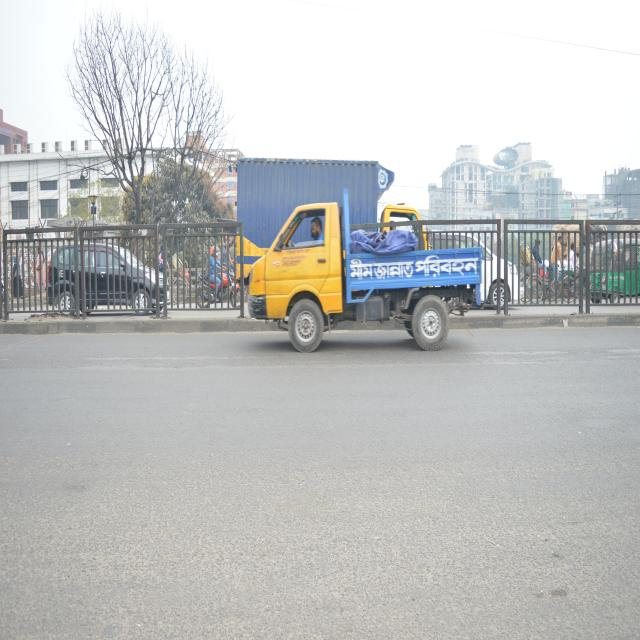microbus: (38, 237, 175, 323)
motorbike: (188, 269, 244, 316)
pickup-van: (235, 199, 488, 358), (228, 144, 437, 310)
